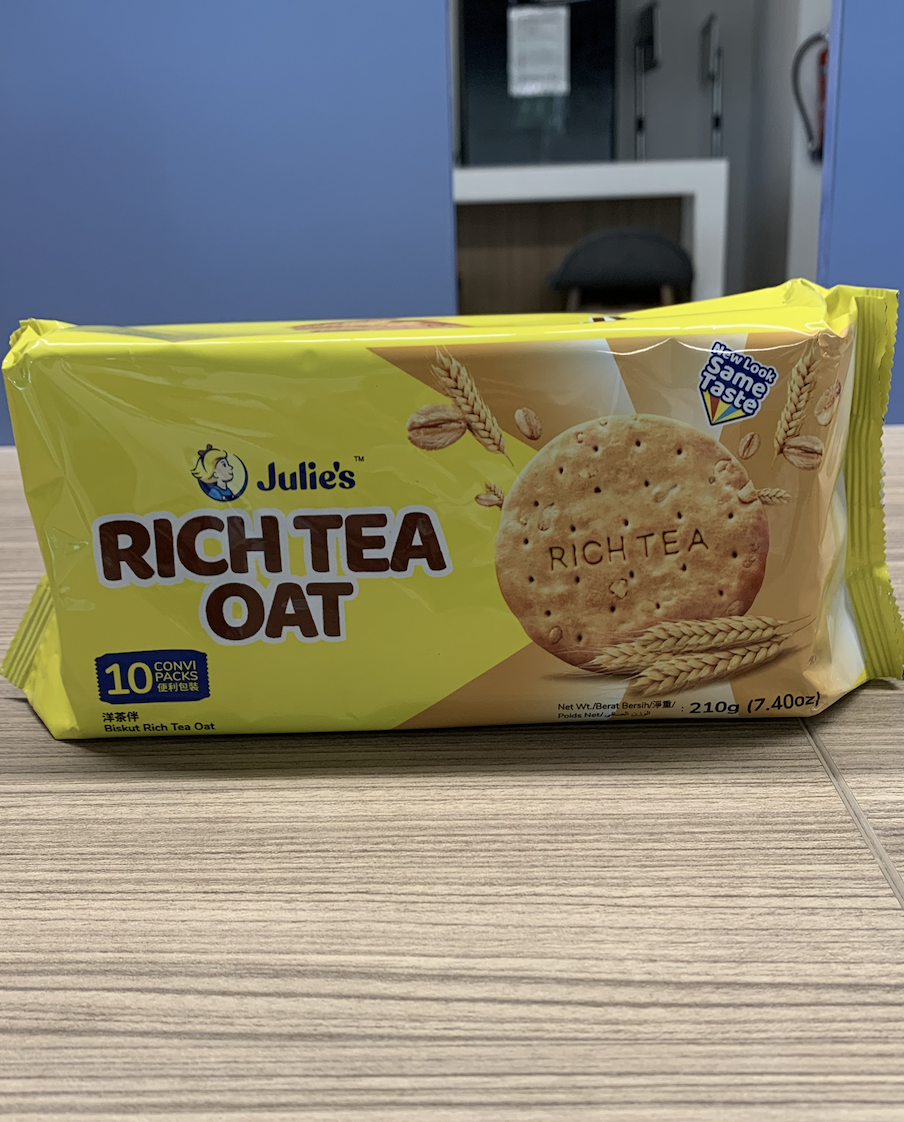cookies_200g-299g: (66, 335, 839, 725)
